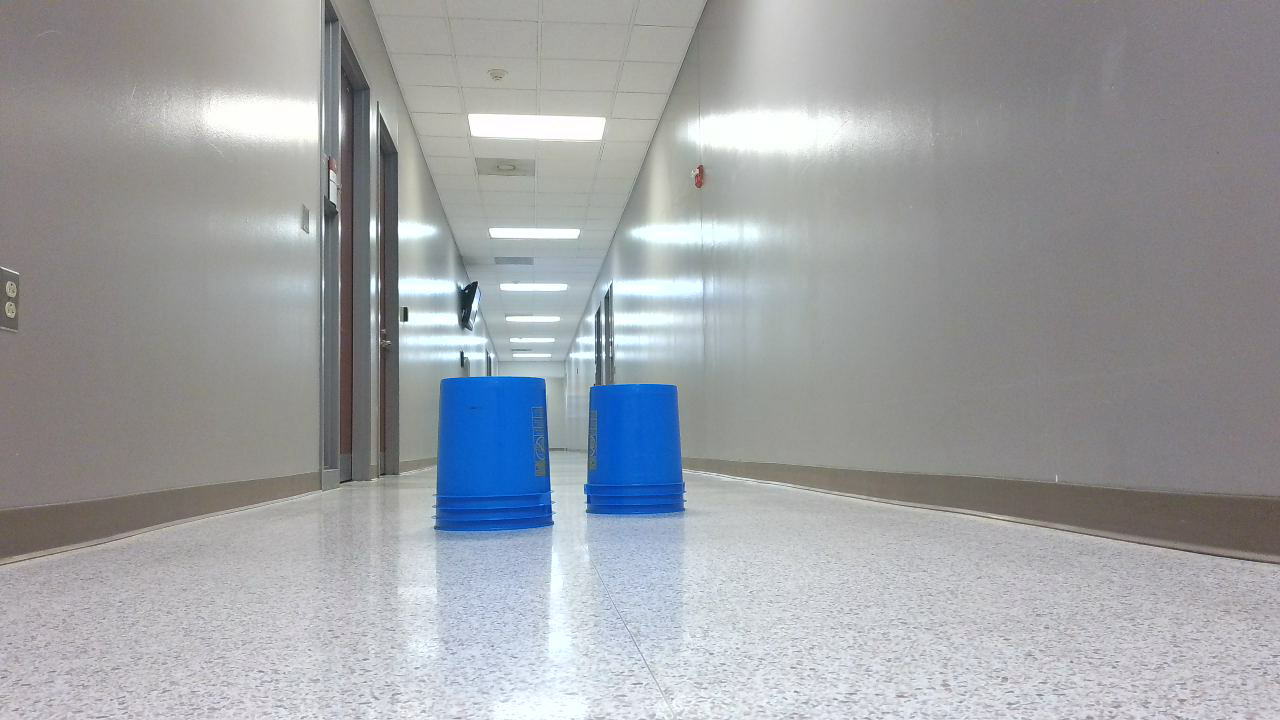blue_bucket: (437, 379, 561, 540), (587, 387, 693, 522)
